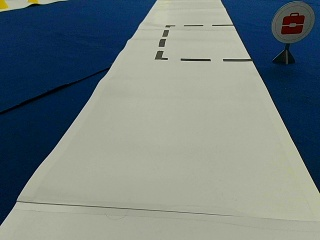company: (271, 2, 315, 43)
